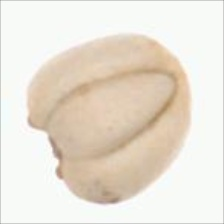L5: (44, 66, 180, 159), (25, 112, 68, 184)
L6: (23, 32, 194, 207)
